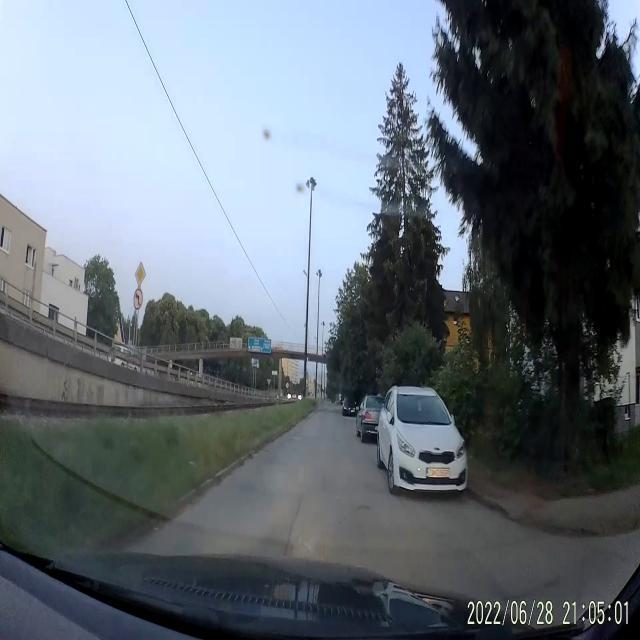Pothole: (356, 502, 372, 514)
